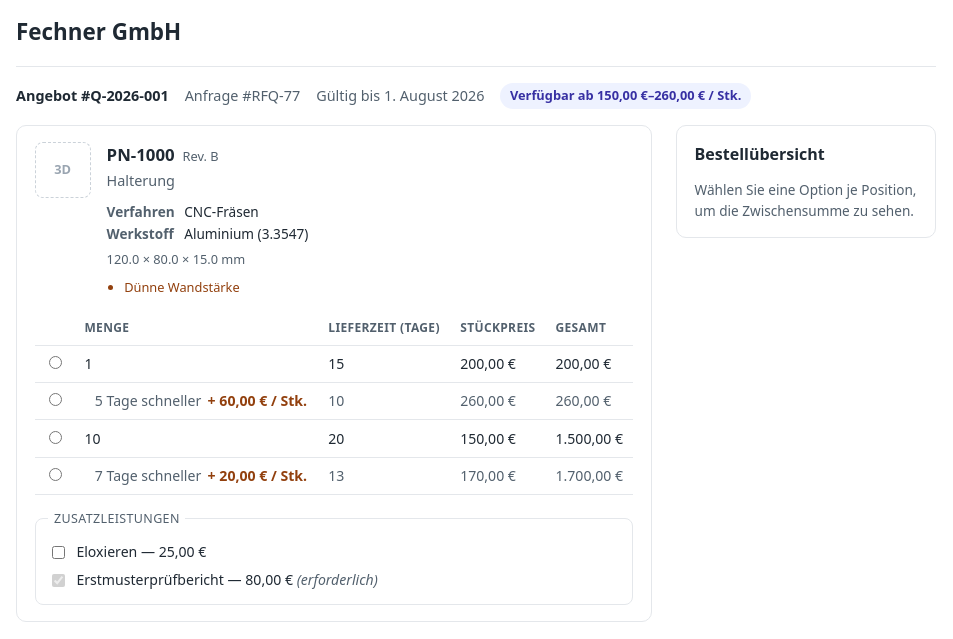
Test case: BuyerPortalPage › updates the order-summary net subtotal live when a break is selected
Expected: the heading "Fechner GmbH" is shown, [16,16,181,47]
Expected: the text "Wählen Sie eine Option" is shown, [695,180,916,220]
Click the radio button named "Menge 1 wählen" at (56, 363), box [49,356,62,369]
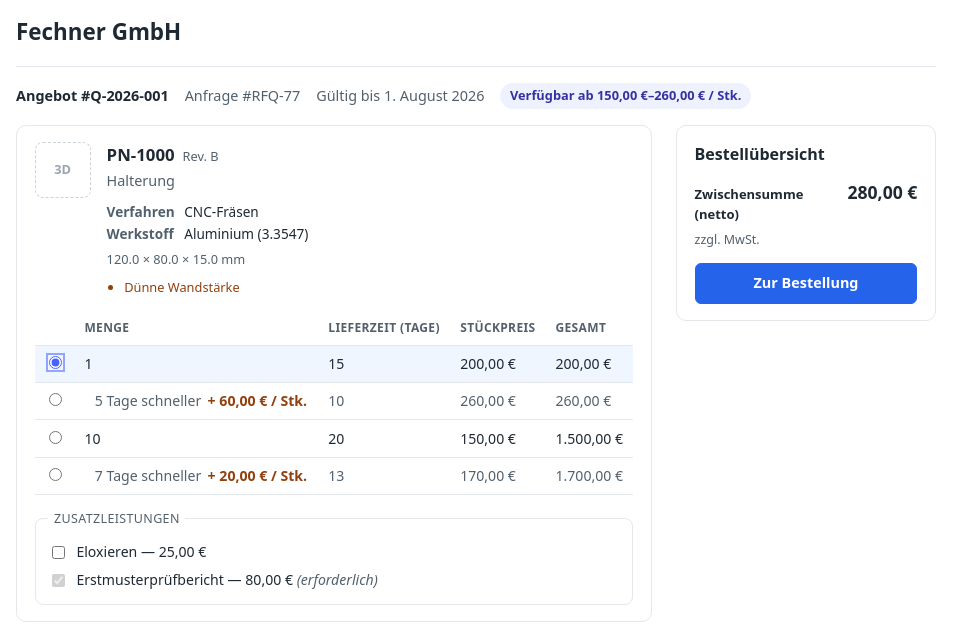
Expected: the text "280,00 €" is shown, [847,179,917,206]
